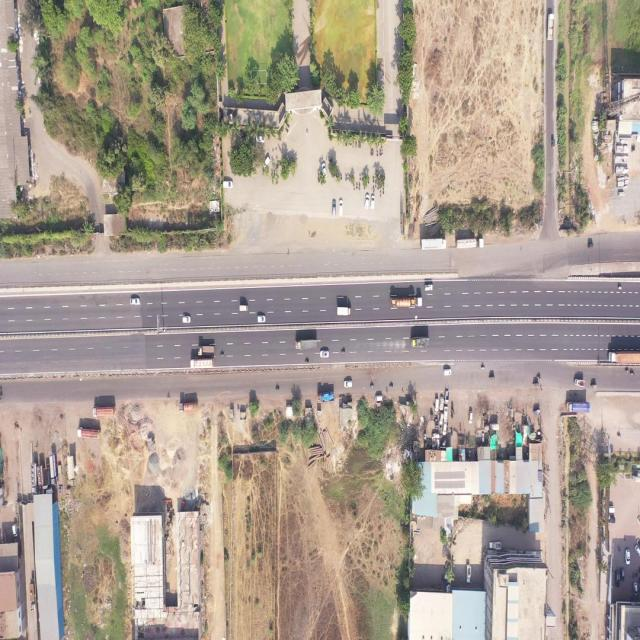3W: (489, 422, 499, 431), (551, 138, 555, 149), (588, 242, 594, 249), (534, 409, 540, 416), (590, 384, 598, 389), (533, 382, 540, 387), (490, 376, 496, 381)
Cars: (624, 549, 630, 566), (364, 194, 370, 210), (442, 420, 448, 436), (615, 570, 620, 588), (632, 582, 638, 596), (12, 524, 18, 538), (130, 298, 140, 306), (608, 514, 616, 524), (439, 396, 444, 412), (320, 350, 329, 358), (344, 380, 353, 388), (322, 164, 327, 178), (620, 568, 625, 582), (332, 200, 336, 217), (371, 194, 375, 210), (443, 368, 451, 376), (435, 398, 439, 414), (182, 316, 191, 323), (223, 182, 233, 188), (339, 198, 342, 217), (376, 394, 383, 402), (257, 316, 266, 322), (608, 505, 614, 514), (468, 411, 472, 424)
LCV: (548, 12, 554, 41), (337, 306, 352, 317), (489, 541, 502, 551), (574, 378, 586, 388), (466, 564, 471, 584), (239, 304, 248, 312), (424, 284, 434, 291), (445, 390, 449, 403)
M2W: (379, 188, 382, 198), (618, 545, 622, 552), (630, 371, 635, 376), (617, 433, 622, 438), (372, 175, 375, 183), (631, 146, 635, 152), (358, 181, 360, 191), (370, 384, 374, 389), (537, 375, 541, 380), (574, 392, 578, 397), (389, 384, 393, 389), (276, 386, 280, 391), (372, 184, 374, 193), (356, 181, 358, 190), (353, 183, 355, 192), (345, 172, 347, 181), (372, 147, 374, 156), (370, 147, 372, 156), (381, 148, 383, 157), (359, 173, 361, 181), (382, 187, 384, 195), (347, 173, 349, 181), (340, 173, 342, 181), (378, 142, 380, 150), (376, 150, 378, 158), (341, 350, 345, 354), (482, 366, 486, 370), (618, 286, 622, 290), (636, 570, 638, 578), (632, 571, 634, 579), (355, 141, 357, 148), (306, 360, 310, 363), (626, 369, 630, 372), (222, 352, 224, 357), (349, 173, 350, 180)
MAV: (608, 351, 640, 364), (390, 296, 422, 307), (456, 238, 484, 249), (421, 238, 446, 250), (78, 428, 100, 440), (49, 454, 57, 486), (190, 358, 215, 368), (93, 406, 115, 417), (31, 462, 38, 494), (179, 400, 198, 411), (29, 584, 36, 612)
Truck: (566, 402, 590, 413), (295, 340, 317, 350), (411, 337, 430, 348), (317, 391, 334, 402), (198, 346, 214, 356)
